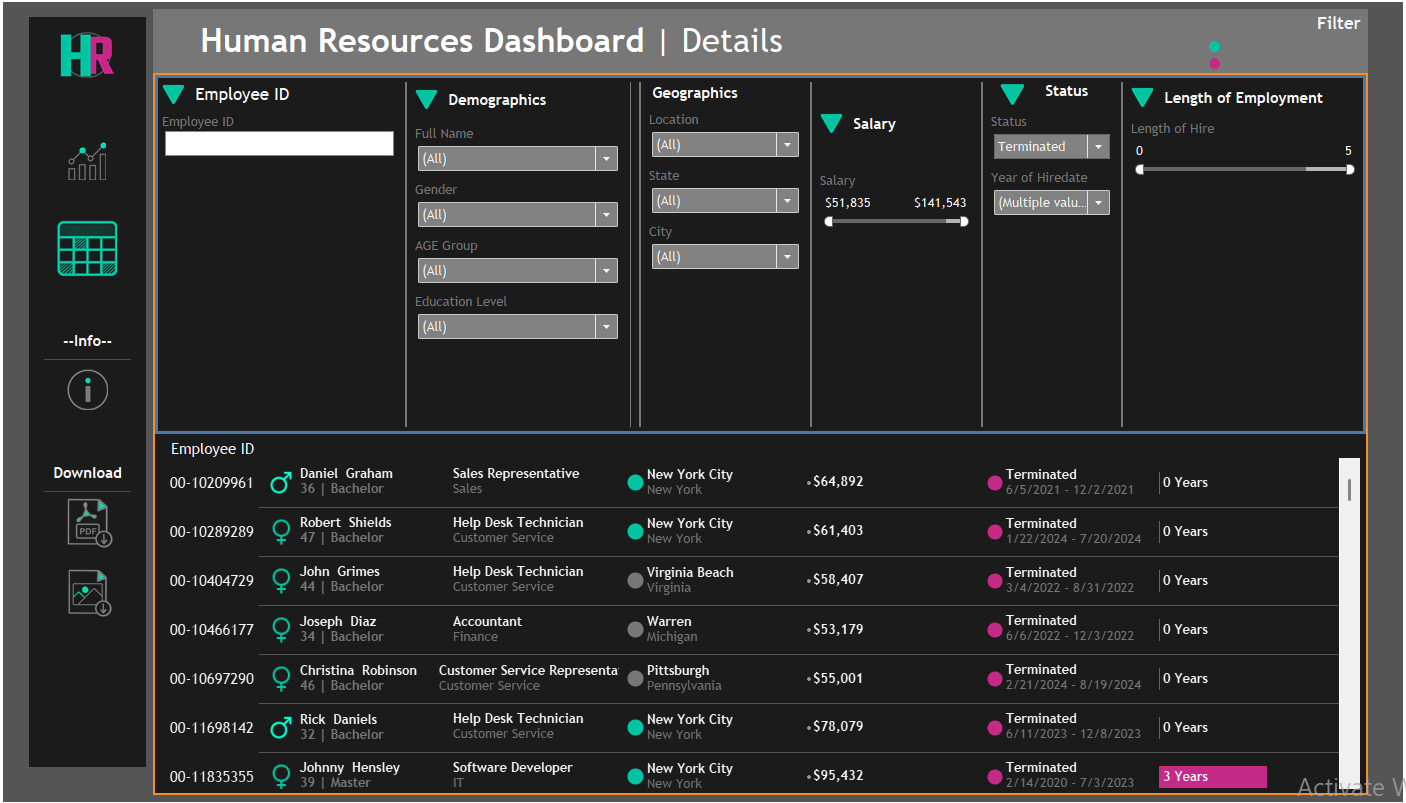

This screenshot's page, from the dashboard's own definition file:
{"tool":"tableau","page":{"name":"HR | Details","canvas":[1400,800],"ordinal":0},"visuals":[{"type":"text","box":[1286,6,100,30]},{"type":"text","box":[150,7,677.5,64]},{"type":"blank","box":[827.5,7,537.5,64]},{"type":"image","param":"Image/Logo.png","box":[36,25,97,55]},{"type":"text","box":[1203,37,89,36]},{"type":"dashboard-object","box":[155,76,30,32]},{"type":"text","box":[185,76,213.5,32]},{"type":"blank","box":[398.5,76,10,353]},{"type":"dashboard-object","box":[408.5,76,30,44]},{"type":"text","box":[438.5,76,184,44]},{"type":"dashboard-object","box":[542,76,30,32]},{"type":"text","box":[572,76,61.5,32]},{"type":"blank","box":[622.5,76,10,353]},{"type":"blank","box":[632.5,76,10,353]},{"type":"blank","box":[633.5,76,49.5,32]},{"type":"text","box":[642.5,76,161,30]},{"type":"blank","box":[803.5,76,10,353]},{"type":"dashboard-object","box":[813.5,76,30,91]},{"type":"text","box":[843.5,76,90,91]},{"type":"blank","box":[974.5,76,10,353]},{"type":"dashboard-object","box":[984.5,76,51,32]},{"type":"text","box":[1035.5,76,79,26]},{"type":"blank","box":[1114.5,76,10,353]},{"type":"dashboard-object","box":[1124.5,76,30,39]},{"type":"text","box":[1154.5,76,205.5,39]},{"type":"blank","box":[36,80,97,60]},{"type":"filter","title":"details","param":"[federated.1b5o2vp1k13vo616yvkzb0z88h2i].[none:Calculation_1937110846422126599:n","box":[642.5,106,161,56]},{"type":"filter","title":"details","param":"[federated.1b5o2vp1k13vo616yvkzb0z88h2i].[none:Employee_ID:nk]","box":[155,108,243.5,53]},{"type":"filter","title":"details","param":"[federated.1b5o2vp1k13vo616yvkzb0z88h2i].[none:Job Title:nk]","box":[542,108,141,79]},{"type":"filter","title":"details","param":"[federated.1b5o2vp1k13vo616yvkzb0z88h2i].[none:Calculation_1937110847479668753:n","box":[984.5,108,130,56]},{"type":"filter","title":"details","param":"[federated.1b5o2vp1k13vo616yvkzb0z88h2i].[sum:Calculation_1426515241898348553:qk","box":[1124.5,115,235.5,68]},{"type":"filter","title":"details","param":"[federated.1b5o2vp1k13vo616yvkzb0z88h2i].[none:Calculation_1426515241864122372:n","box":[408.5,120,214,56]},{"type":"dashboard-object","box":[36,140,97,38]},{"type":"filter","title":"details","param":"[federated.1b5o2vp1k13vo616yvkzb0z88h2i].[none:State:nk]","box":[642.5,162,161,56]},{"type":"filter","title":"details","param":"[federated.1b5o2vp1k13vo616yvkzb0z88h2i].[yr:Hiredate:ok]","box":[984.5,164,130,56]},{"type":"filter","title":"details","param":"[federated.1b5o2vp1k13vo616yvkzb0z88h2i].[sum:Salary:qk]","box":[813.5,167,161,68]},{"type":"filter","title":"details","param":"[federated.1b5o2vp1k13vo616yvkzb0z88h2i].[none:Gender:nk]","box":[408.5,176,214,56]},{"type":"blank","box":[36,178,97,38]},{"type":"filter","title":"details","param":"[federated.1b5o2vp1k13vo616yvkzb0z88h2i].[none:Department:nk]","box":[542,187,141,76]},{"type":"dashboard-object","box":[36,216,97,60]},{"type":"filter","title":"details","param":"[federated.1b5o2vp1k13vo616yvkzb0z88h2i].[none:City:nk]","box":[642.5,218,161,56]},{"type":"filter","title":"details","param":"[federated.1b5o2vp1k13vo616yvkzb0z88h2i].[none:Calculation_1937110846440509456:n","box":[408.5,232,214,56]},{"type":"text","box":[142,266,1257,267]},{"type":"blank","box":[36,276,97,50]},{"type":"filter","title":"details","param":"[federated.1b5o2vp1k13vo616yvkzb0z88h2i].[none:Education Level:nk]","box":[408.5,288,214,56]},{"type":"text","box":[36,326,97,26]},{"type":"blank","box":[36,352,97,11]},{"type":"dashboard-object","box":[36,363,97,49]},{"type":"blank","box":[36,412,97,46]},{"type":"worksheet","title":"details","mark":"Shape","rows":["Employee_ID"],"cols":["Calculation_1426515241874878472","Calculation_1426515241874878472","Calculation_1426515241874878472","Calculation_1426515241874878472","Calculation_1426515241874878472","Calculation_1426515241898348553"],"box":[152,432,1211,359]},{"type":"text","box":[36,458,97,26]},{"type":"blank","box":[36,484,97,11]},{"type":"dashboard-object","box":[36,495,97,51]},{"type":"blank","box":[36,546,97,20]},{"type":"dashboard-object","box":[36,566,97,49]}]}

Visuals, with their boxes on the page's 1400x800 design canvas (x1, y1, x2, y2). These are canvas units, not pixel positions in the 1406x803 screenshot, which may show the page scaled, cropped or inside an application window:
text: <box>1286,6,1386,36</box>
text: <box>150,7,828,71</box>
blank: <box>828,7,1365,71</box>
image: <box>36,25,133,80</box>
text: <box>1203,37,1292,73</box>
dashboard-object: <box>155,76,185,108</box>
text: <box>185,76,398,108</box>
blank: <box>398,76,408,429</box>
dashboard-object: <box>408,76,438,120</box>
text: <box>438,76,622,120</box>
dashboard-object: <box>542,76,572,108</box>
text: <box>572,76,634,108</box>
blank: <box>622,76,632,429</box>
blank: <box>632,76,642,429</box>
blank: <box>634,76,683,108</box>
text: <box>642,76,804,106</box>
blank: <box>804,76,814,429</box>
dashboard-object: <box>814,76,844,167</box>
text: <box>844,76,934,167</box>
blank: <box>974,76,984,429</box>
dashboard-object: <box>984,76,1036,108</box>
text: <box>1036,76,1114,102</box>
blank: <box>1114,76,1124,429</box>
dashboard-object: <box>1124,76,1154,115</box>
text: <box>1154,76,1360,115</box>
blank: <box>36,80,133,140</box>
"details" filter: <box>642,106,804,162</box>
"details" filter: <box>155,108,398,161</box>
"details" filter: <box>542,108,683,187</box>
"details" filter: <box>984,108,1114,164</box>
"details" filter: <box>1124,115,1360,183</box>
"details" filter: <box>408,120,622,176</box>
dashboard-object: <box>36,140,133,178</box>
"details" filter: <box>642,162,804,218</box>
"details" filter: <box>984,164,1114,220</box>
"details" filter: <box>814,167,974,235</box>
"details" filter: <box>408,176,622,232</box>
blank: <box>36,178,133,216</box>
"details" filter: <box>542,187,683,263</box>
dashboard-object: <box>36,216,133,276</box>
"details" filter: <box>642,218,804,274</box>
"details" filter: <box>408,232,622,288</box>
text: <box>142,266,1399,533</box>
blank: <box>36,276,133,326</box>
"details" filter: <box>408,288,622,344</box>
text: <box>36,326,133,352</box>
blank: <box>36,352,133,363</box>
dashboard-object: <box>36,363,133,412</box>
blank: <box>36,412,133,458</box>
"details" worksheet (Shape marks): <box>152,432,1363,791</box>
text: <box>36,458,133,484</box>
blank: <box>36,484,133,495</box>
dashboard-object: <box>36,495,133,546</box>
blank: <box>36,546,133,566</box>
dashboard-object: <box>36,566,133,615</box>
